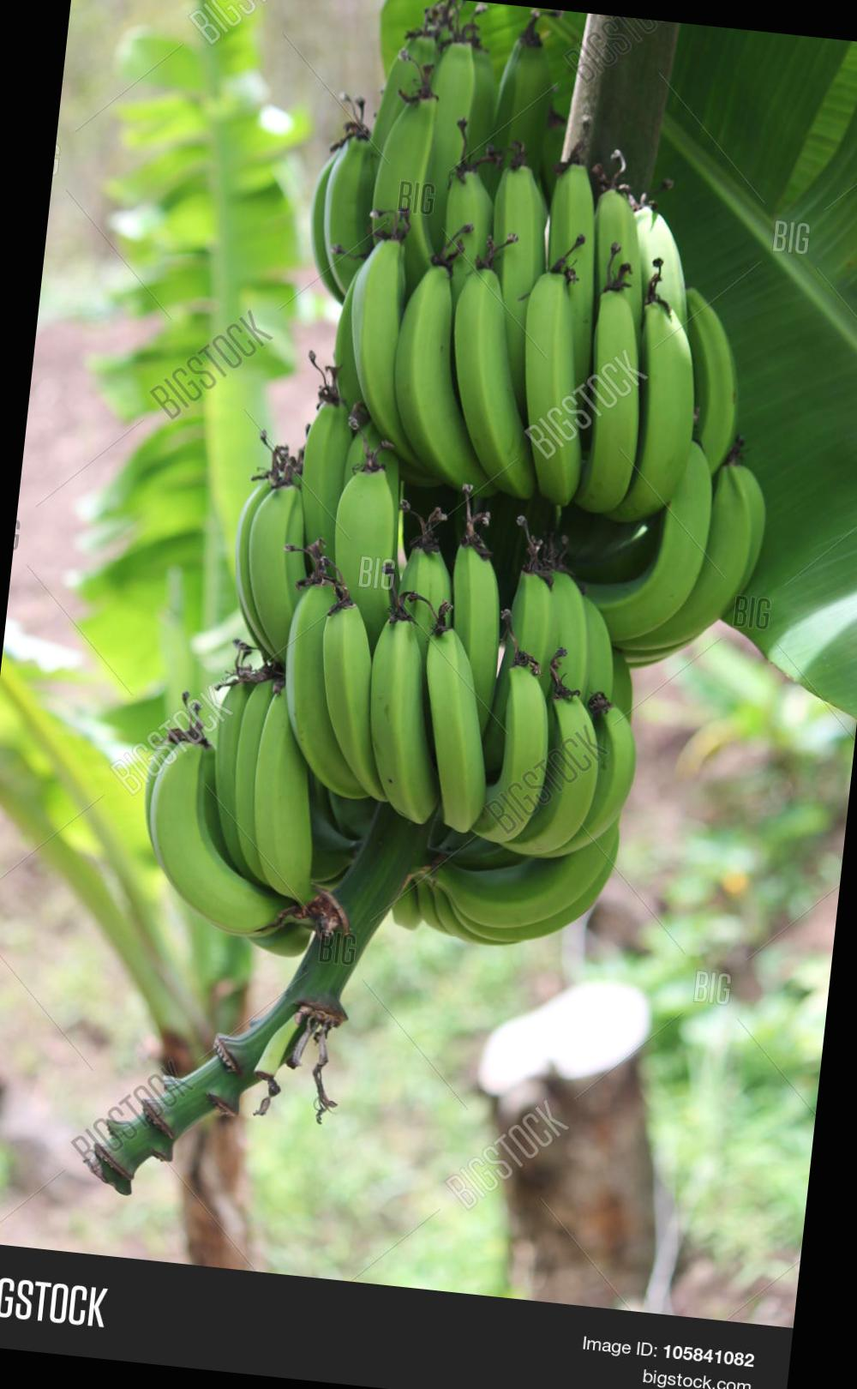Banana Unripe: (79, 0, 857, 1095)
